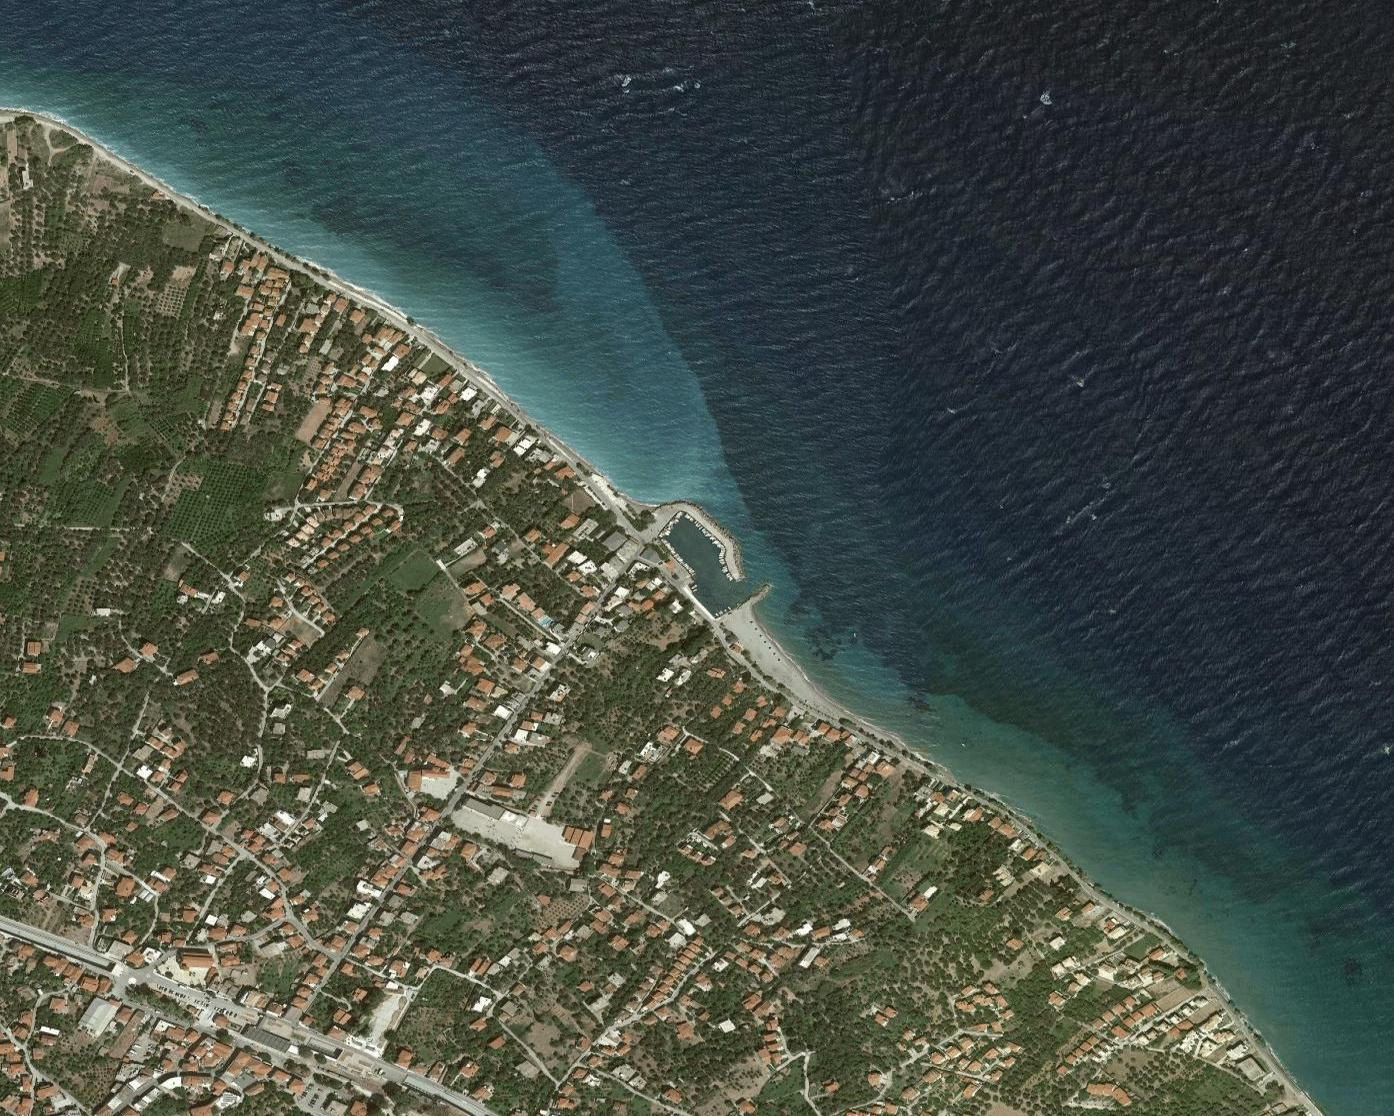harbor: (654, 484, 774, 641)
